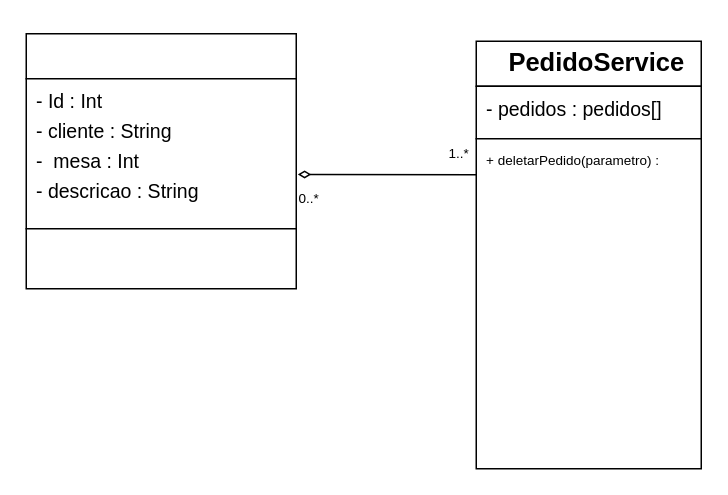
Image size: 728x495. Some labels were removed from this diagram. Here are the shapes that lost their labels. From the top down, the centre of each, then its label:
At pixel 160 55: "Pedido".
At pixel 160 258: "+ gerarId() : Int".
